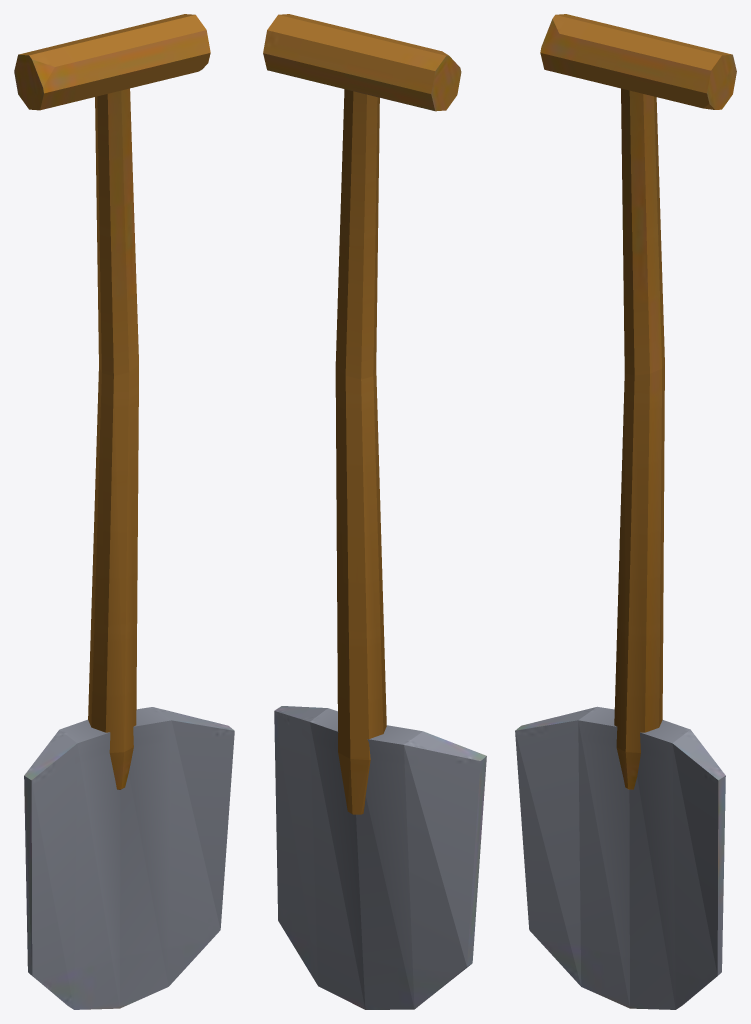
The model's file is spade.glb.
3 renders of one model, left to right at view 1: azimuth 30°, elevation 25°; view 2: azimuth 150°, elevation 25°; view 3: azimuth 330°, elevation 25°, orthographic.
Parts seen in each view (by area): view 1: spade; view 2: spade; view 3: spade.
Part boxes in pixels (bbox=[...]): spade: bbox=[14, 14, 234, 1009]; spade: bbox=[263, 14, 486, 1009]; spade: bbox=[515, 14, 736, 1009].
Size of the model in its own units: 0.2212 by 1 by 0.068.
Materials: 1 (1 with a texture image).
